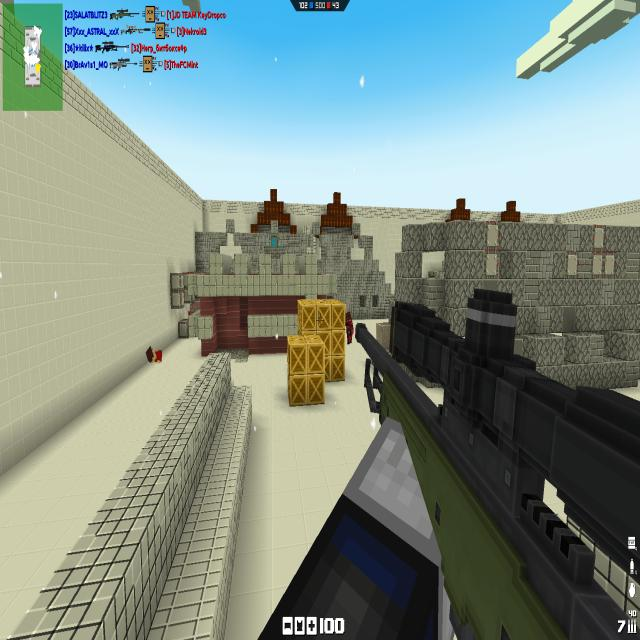player: (146, 346, 162, 364), (346, 310, 354, 345)
